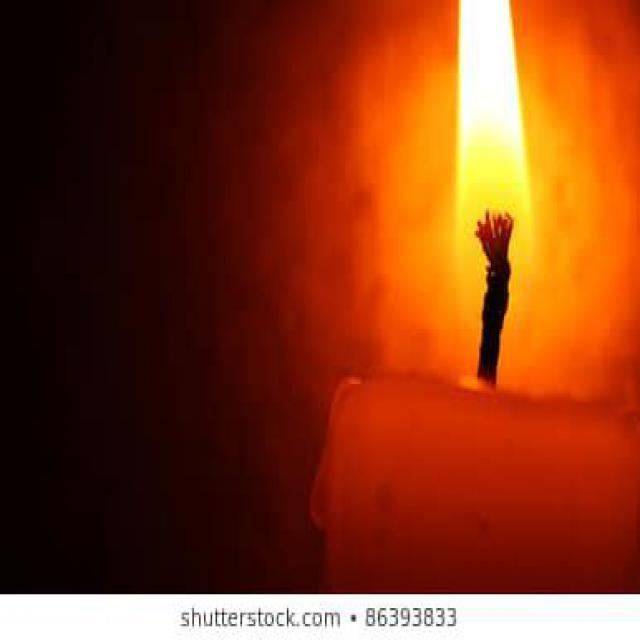Fire: (458, 0, 530, 286)
